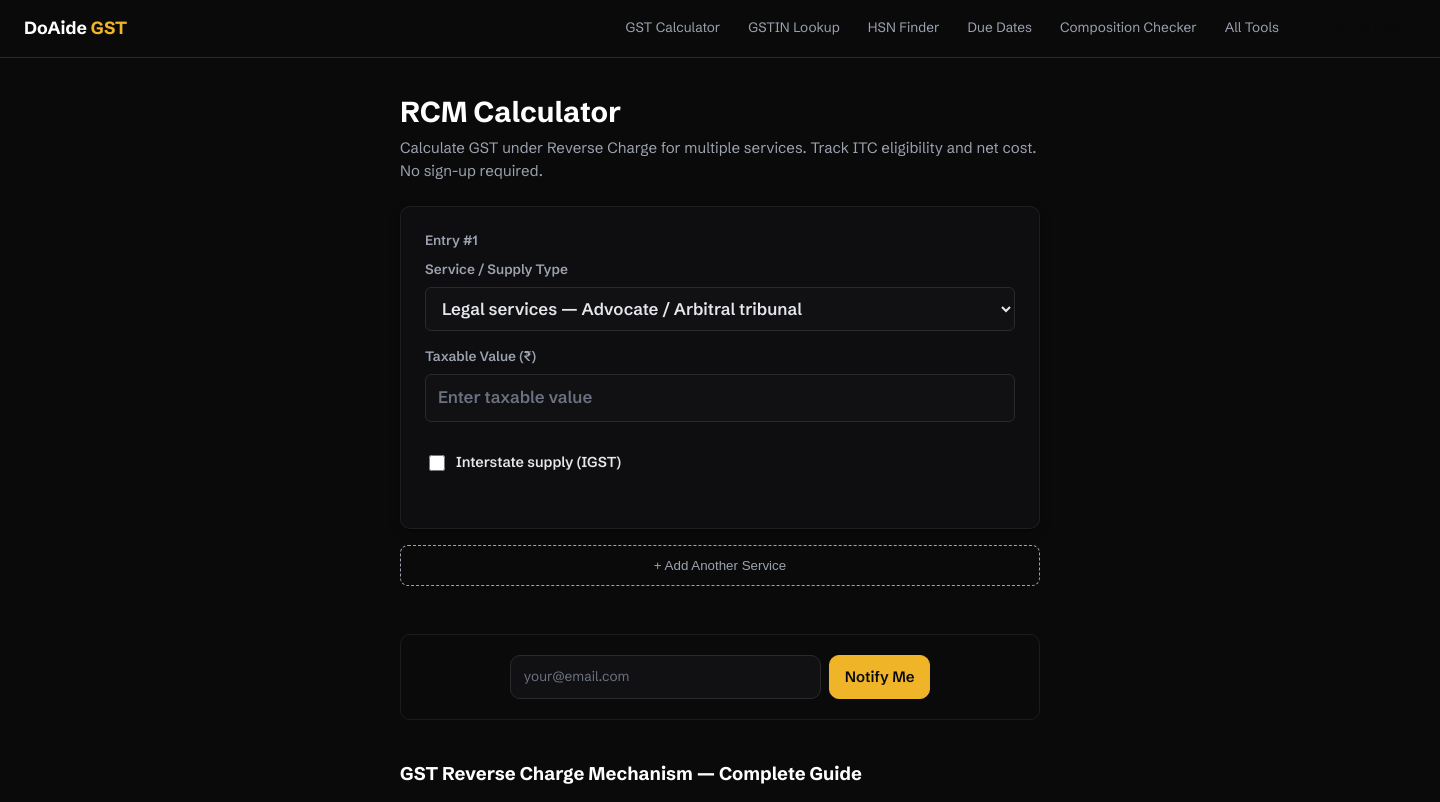
Scenario: RCMCalculatorPage › shows no RCM for GTA forward charge
Select "GTA — Forward charge (18%, no RCM)" in the dropdown showing "Legal services": x=720, y=309 [425,286,1015,331]
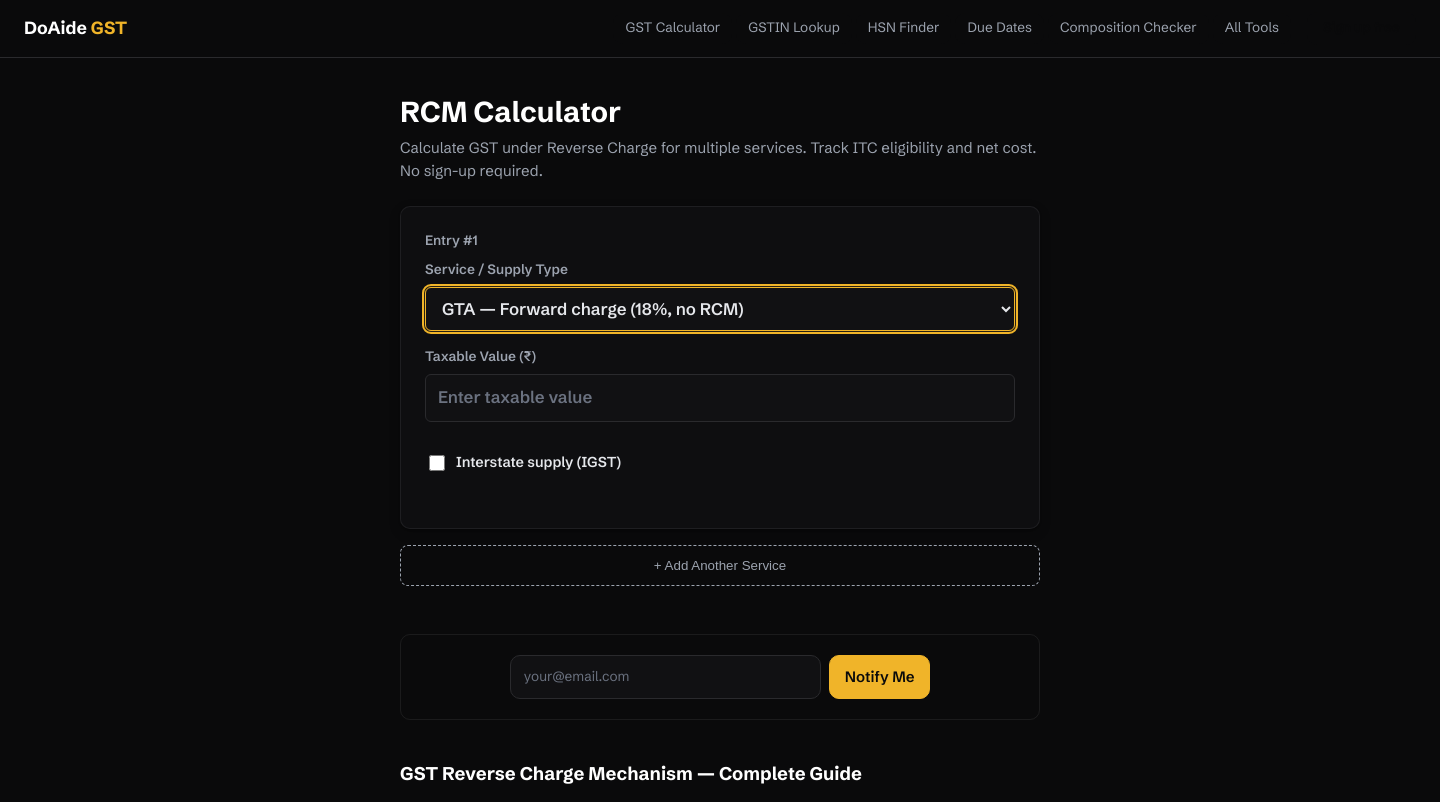
In the number field with placeholder "Enter taxable value": x=720, y=398 [425,374,1015,422], type "50000"
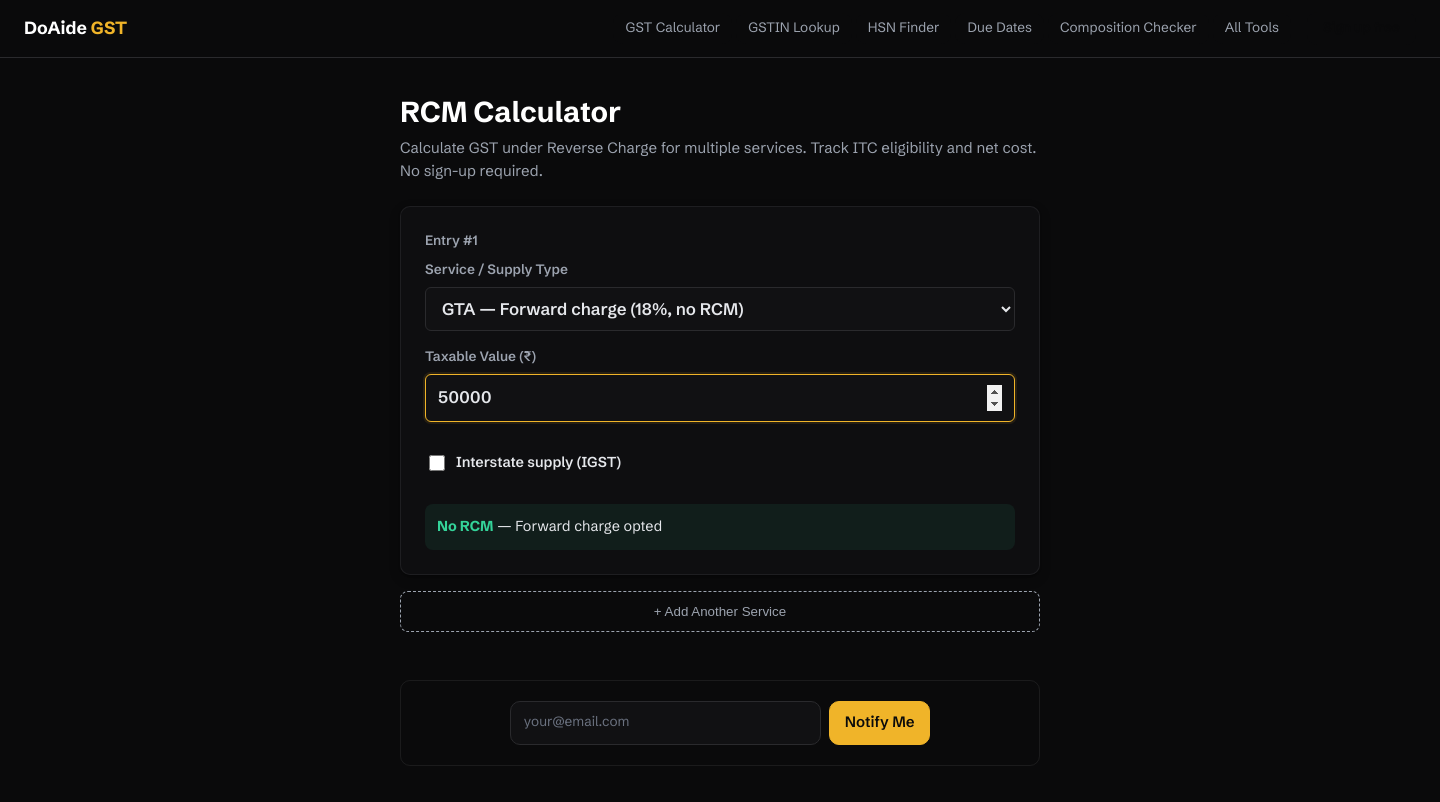
Check: the text "No RCM" is shown, box [437,517,494,535]
